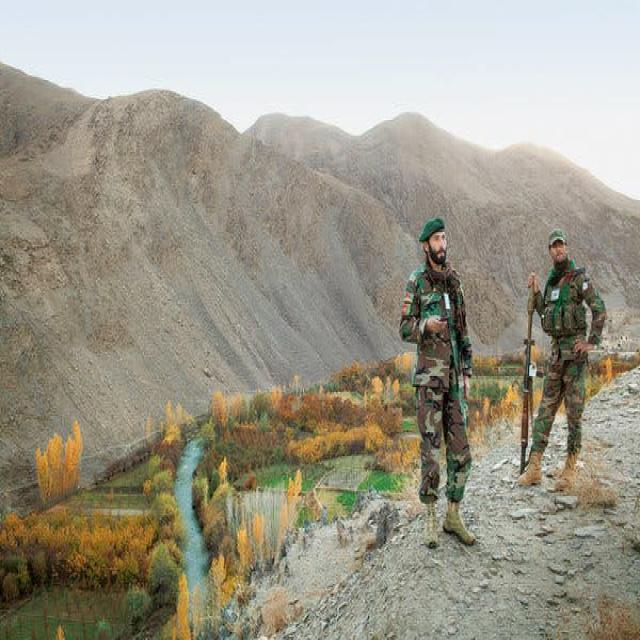Forest: (0, 0, 640, 640)
Militant: (396, 202, 493, 559), (516, 200, 611, 520)
